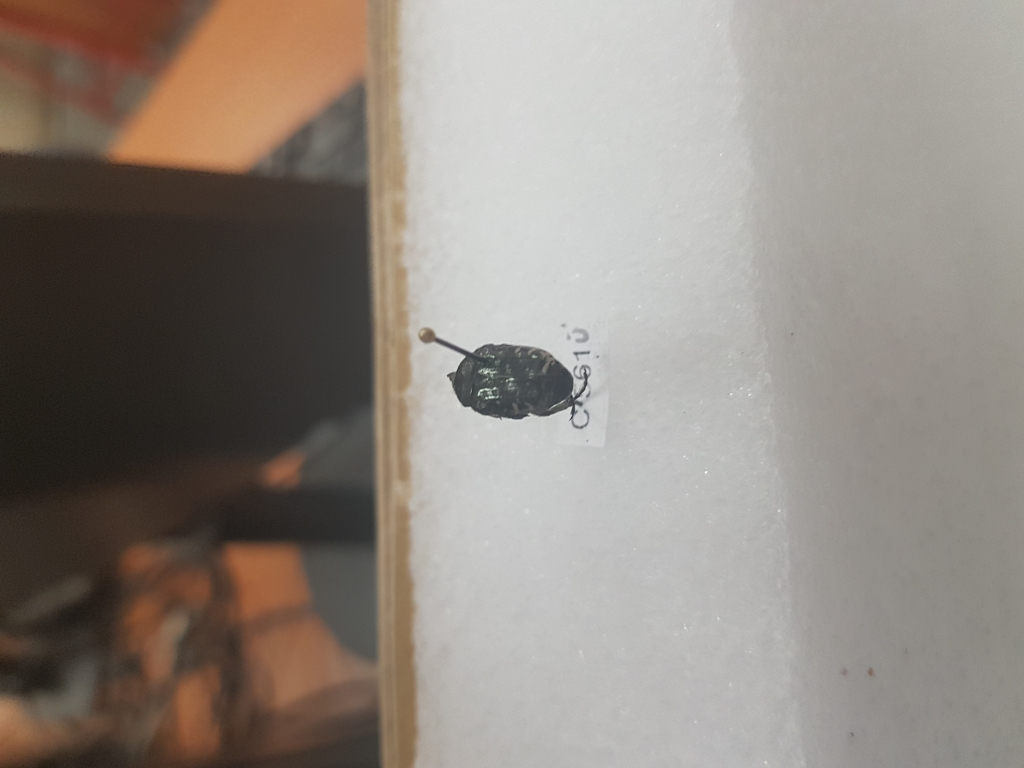Oxythyrea_albopicta: (441, 328, 585, 434)
